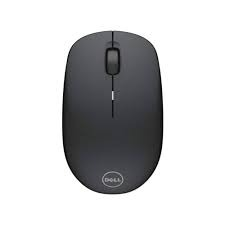mouse: (60, 28, 166, 197)
